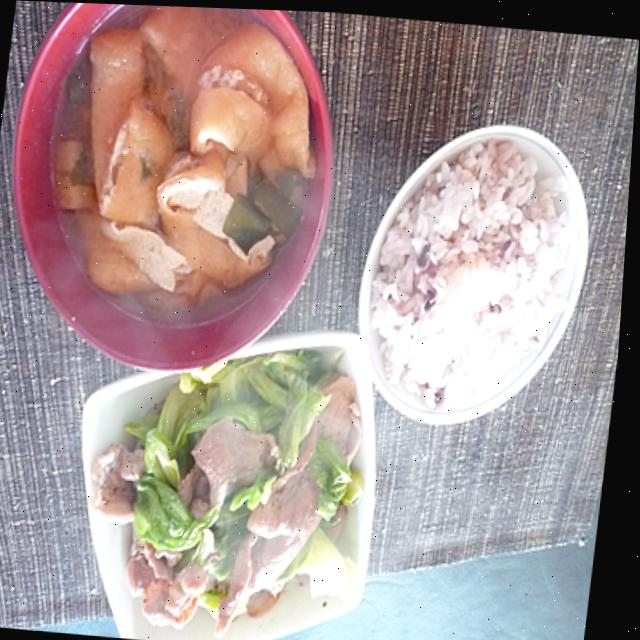蔬菜料理: (123, 367, 378, 611)
